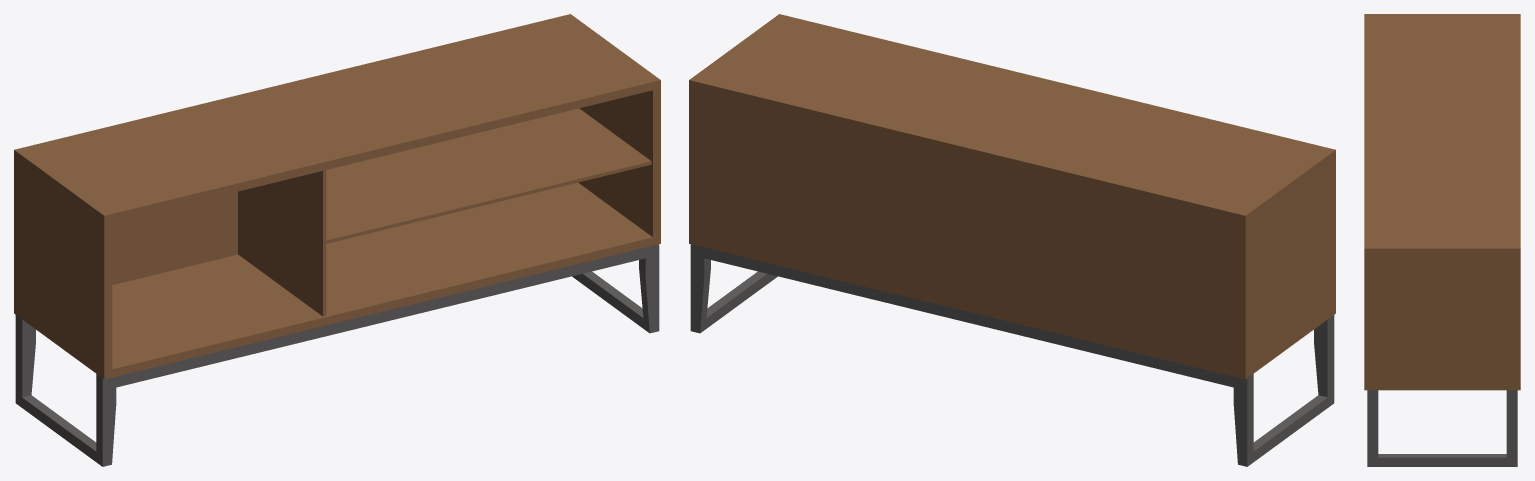
Rendered from Cupboard_21_01.fbx.
3 views of the same model, side by side, from view 1: azimuth 30°, elevation 25°; view 2: azimuth 150°, elevation 25°; view 3: azimuth 270°, elevation 25° (orthographic). The views are drawn at different scales.
Visible parts, largest first — view 1: Cupboard_21_01; view 2: Cupboard_21_01; view 3: Cupboard_21_01.
Boxes of the visible parts, x1,y1,x2,y2 form: Cupboard_21_01: (14,14,660,466); Cupboard_21_01: (689,14,1335,466); Cupboard_21_01: (1364,14,1520,466).
Bounding box in the file's own units: 132 × 57.37 × 37.21.
